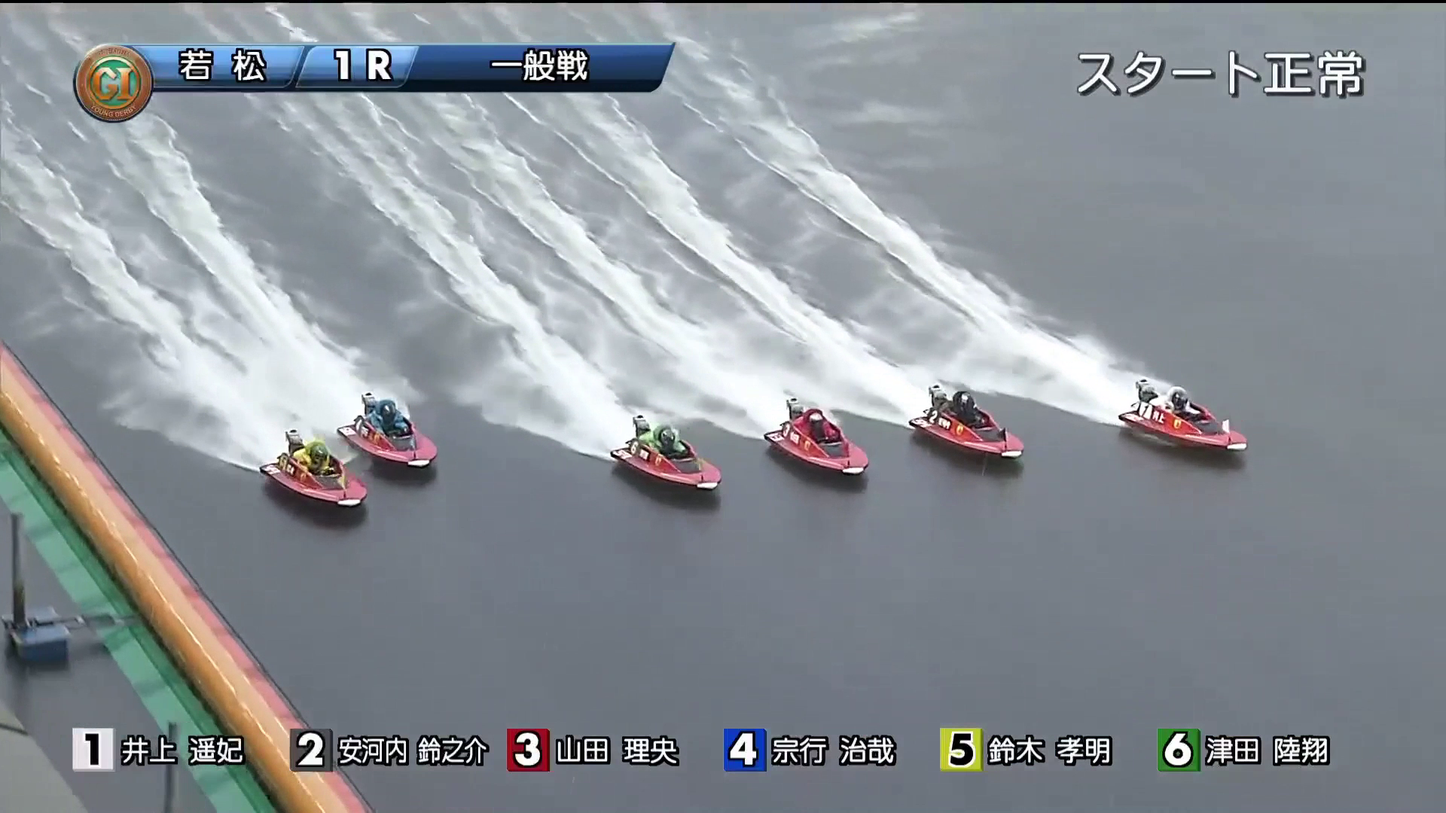１号艇: (1136, 371, 1247, 419)
２号艇: (920, 384, 1028, 433)
３号艇: (768, 425, 883, 467)
４号艇: (627, 436, 739, 491)
５号艇: (340, 411, 462, 466)
６号艇: (293, 473, 393, 530)
